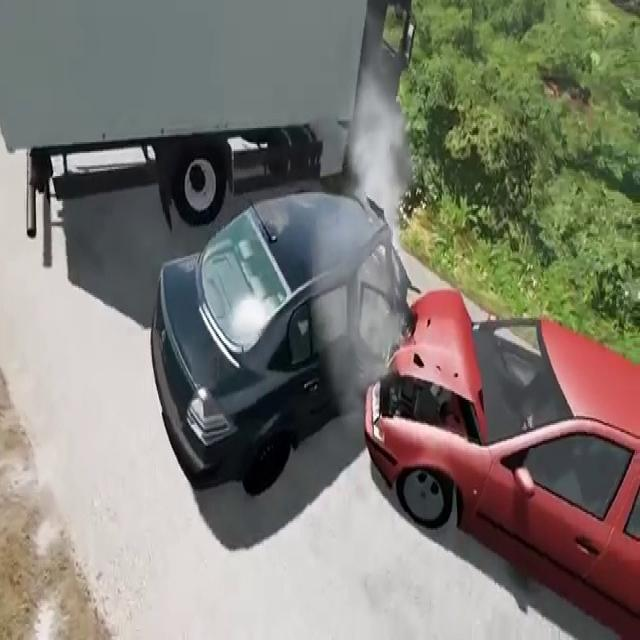accident: (149, 158, 640, 640)
